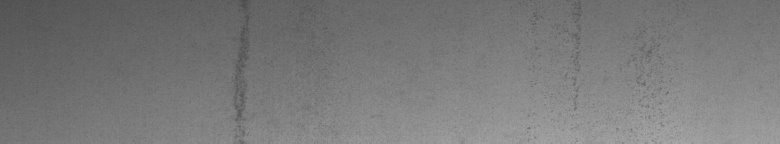ib: (529, 7, 678, 116)
